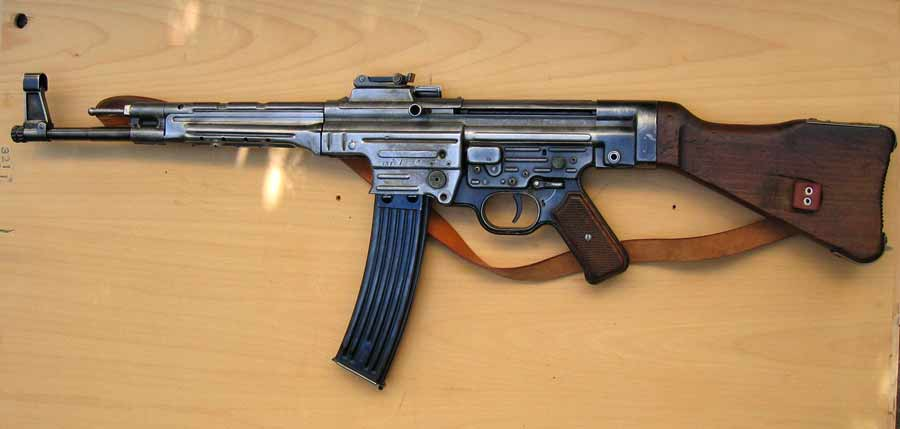Arma Real: (6, 70, 894, 393)
